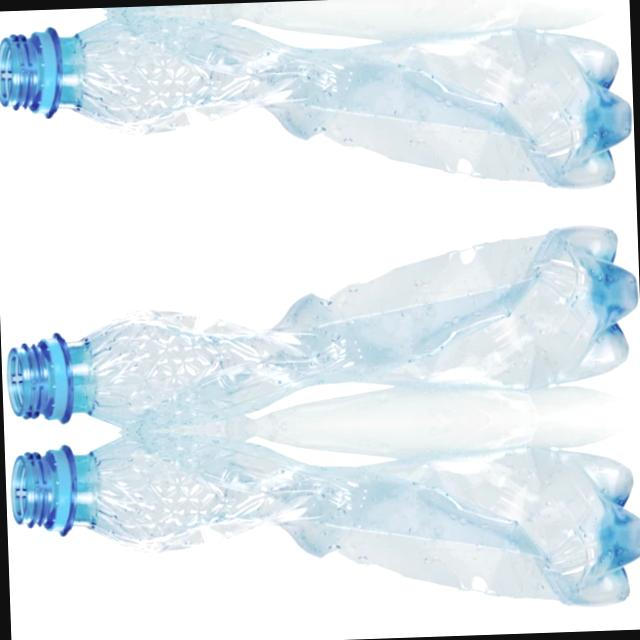Plastic: (0, 204, 640, 432), (0, 0, 636, 226), (4, 416, 640, 640), (11, 622, 640, 640), (0, 0, 629, 14)
